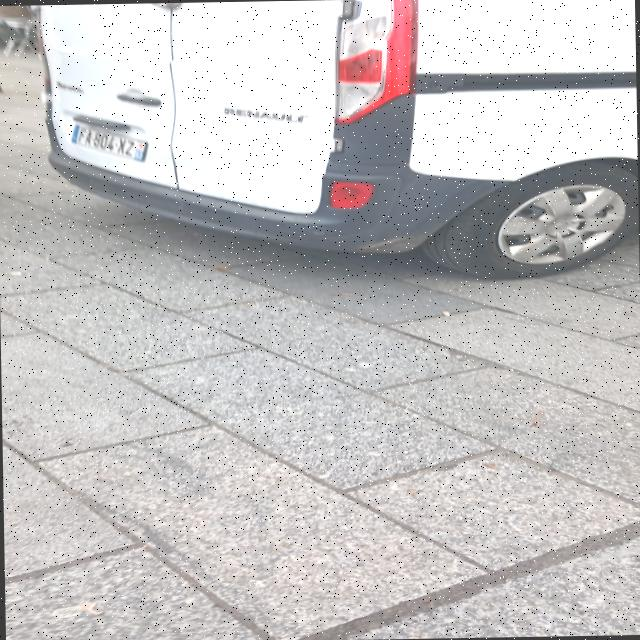Autre: (68, 122, 150, 162)
